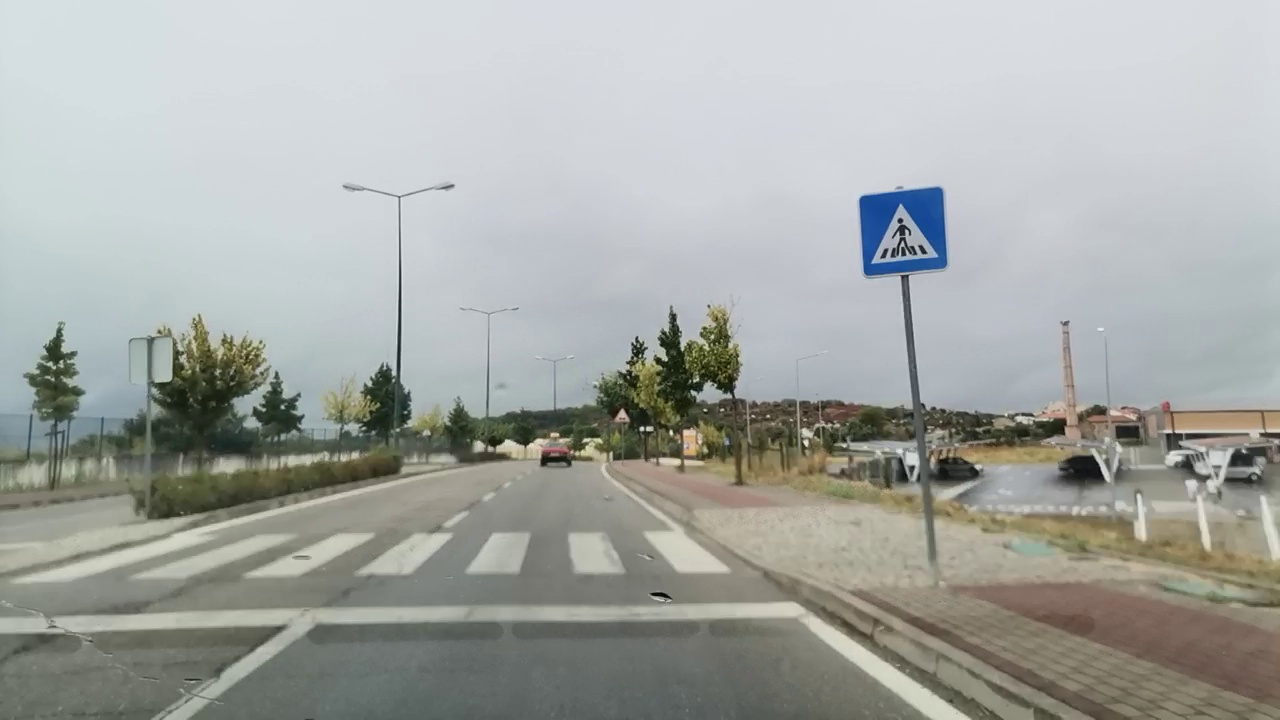Stairs: (18, 532, 733, 587)
